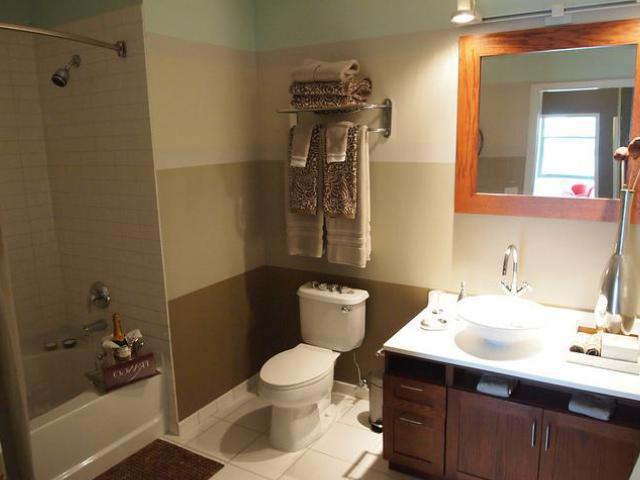Bote de Basura: (365, 361, 400, 435)
Lavamanos: (453, 237, 551, 352)
